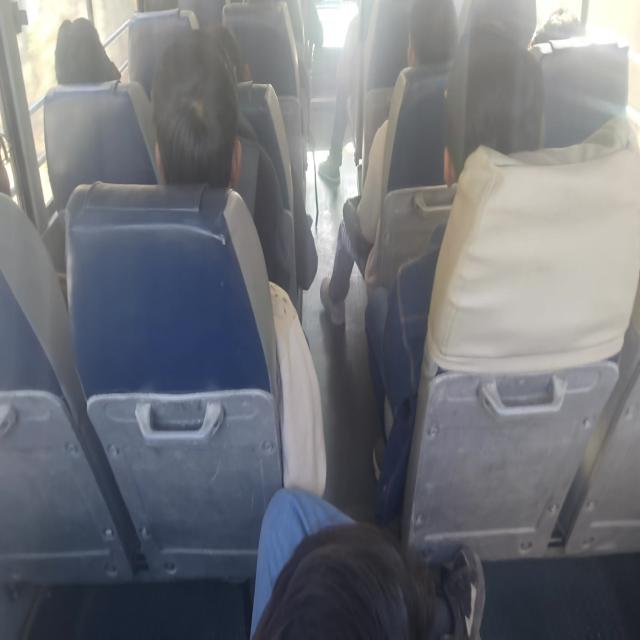person: (256, 507, 436, 640), (439, 33, 533, 202), (156, 37, 234, 204), (182, 21, 250, 98), (51, 24, 120, 92), (403, 0, 457, 70), (528, 4, 592, 55), (0, 114, 18, 207)
